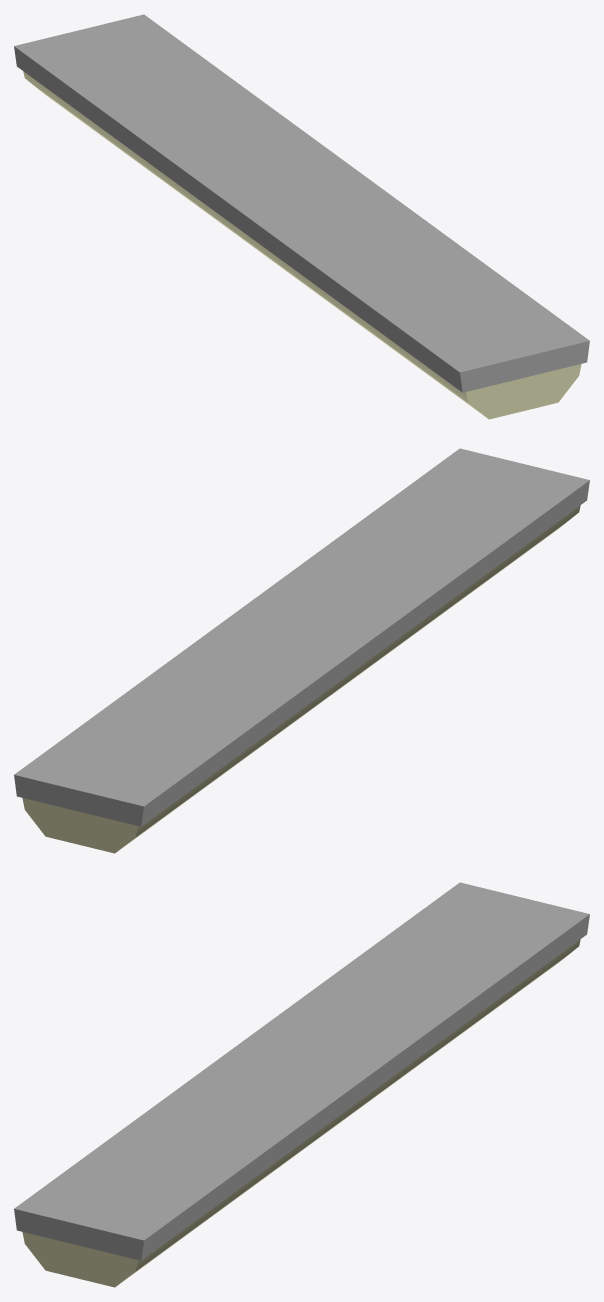
The model's file is geo_ceelinglamp.fbx.
The picture shows the model from 3 angles, top to bottom: view 1: azimuth 30°, elevation 25°; view 2: azimuth 150°, elevation 25°; view 3: azimuth 330°, elevation 25°; orthographic projection.
Parts seen in each view (by area): view 1: geo_ceelinglamp; view 2: geo_ceelinglamp; view 3: geo_ceelinglamp.
Boxes of the visible parts, x1=… form: geo_ceelinglamp: x1=14, y1=14, x2=589, y2=419; geo_ceelinglamp: x1=14, y1=448, x2=589, y2=853; geo_ceelinglamp: x1=14, y1=882, x2=589, y2=1287.
Size of the model in its own units: 29.14 by 11.85 by 173.
